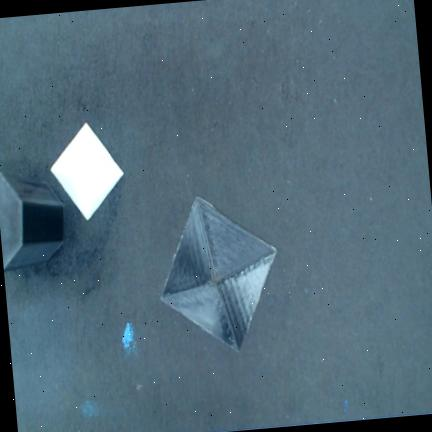Piramide: (161, 194, 276, 350), (50, 123, 124, 220)
Prisma_hexagonal: (0, 172, 63, 271)
